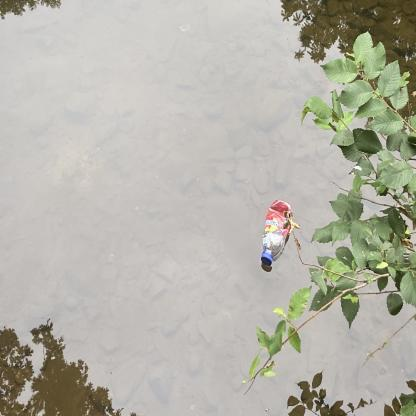trash: (256, 193, 297, 272)
